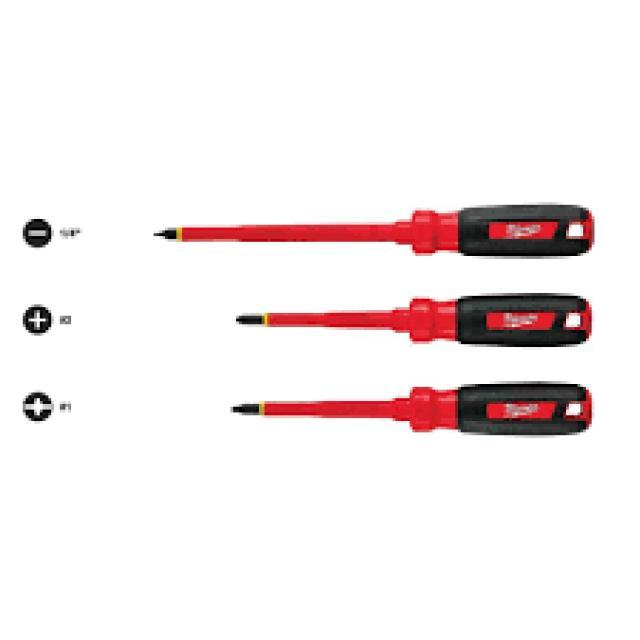screwdriver: (202, 364, 597, 438), (140, 199, 600, 262), (223, 284, 593, 347)
